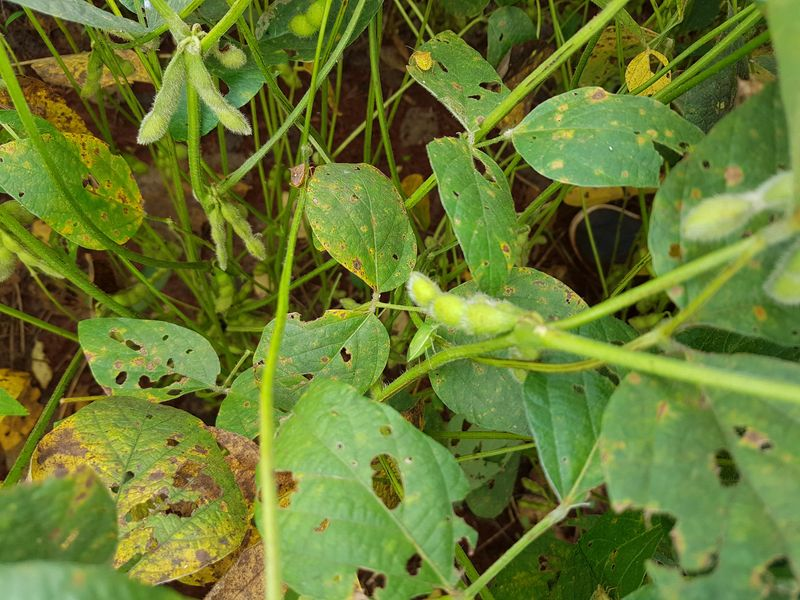Euschistus_heros_adulto: (282, 158, 317, 194)
Euschistus_heros_ninfa: (409, 46, 437, 74)
Nezara_viridula_adulto: (398, 315, 450, 370)
